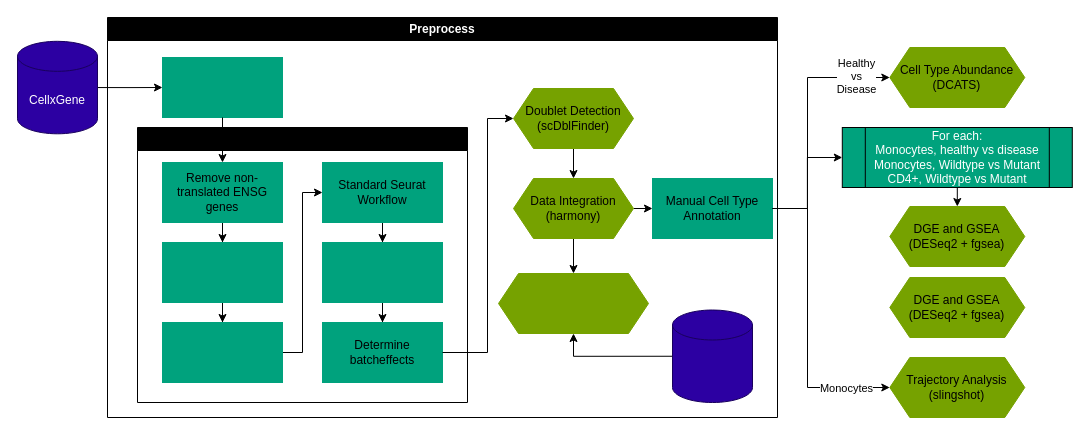
The diagram is 1090 pixels wide and 435 high, and some of its shapes have lost their labels. Here are the shapes that lost their labels. From the top down, the box of each, then its label:
(162, 56, 282, 118): Subset donors
(162, 242, 282, 302): Calculate gene percentages
(136, 126, 468, 402): Quality Control
(322, 242, 442, 302): Decide on resolution, determine clusters
(498, 272, 648, 334): Automatic Cell Type Annotation (singleR)
(162, 322, 282, 382): Apply filtering thresholds
(672, 309, 752, 402): SeuratData
